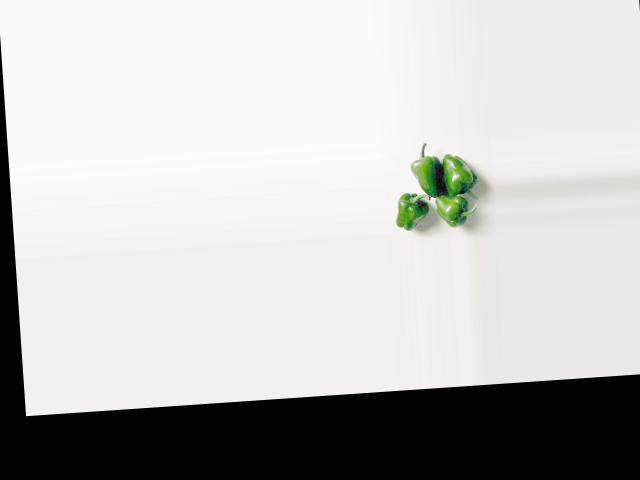bell_pepper: (432, 196, 476, 228)
